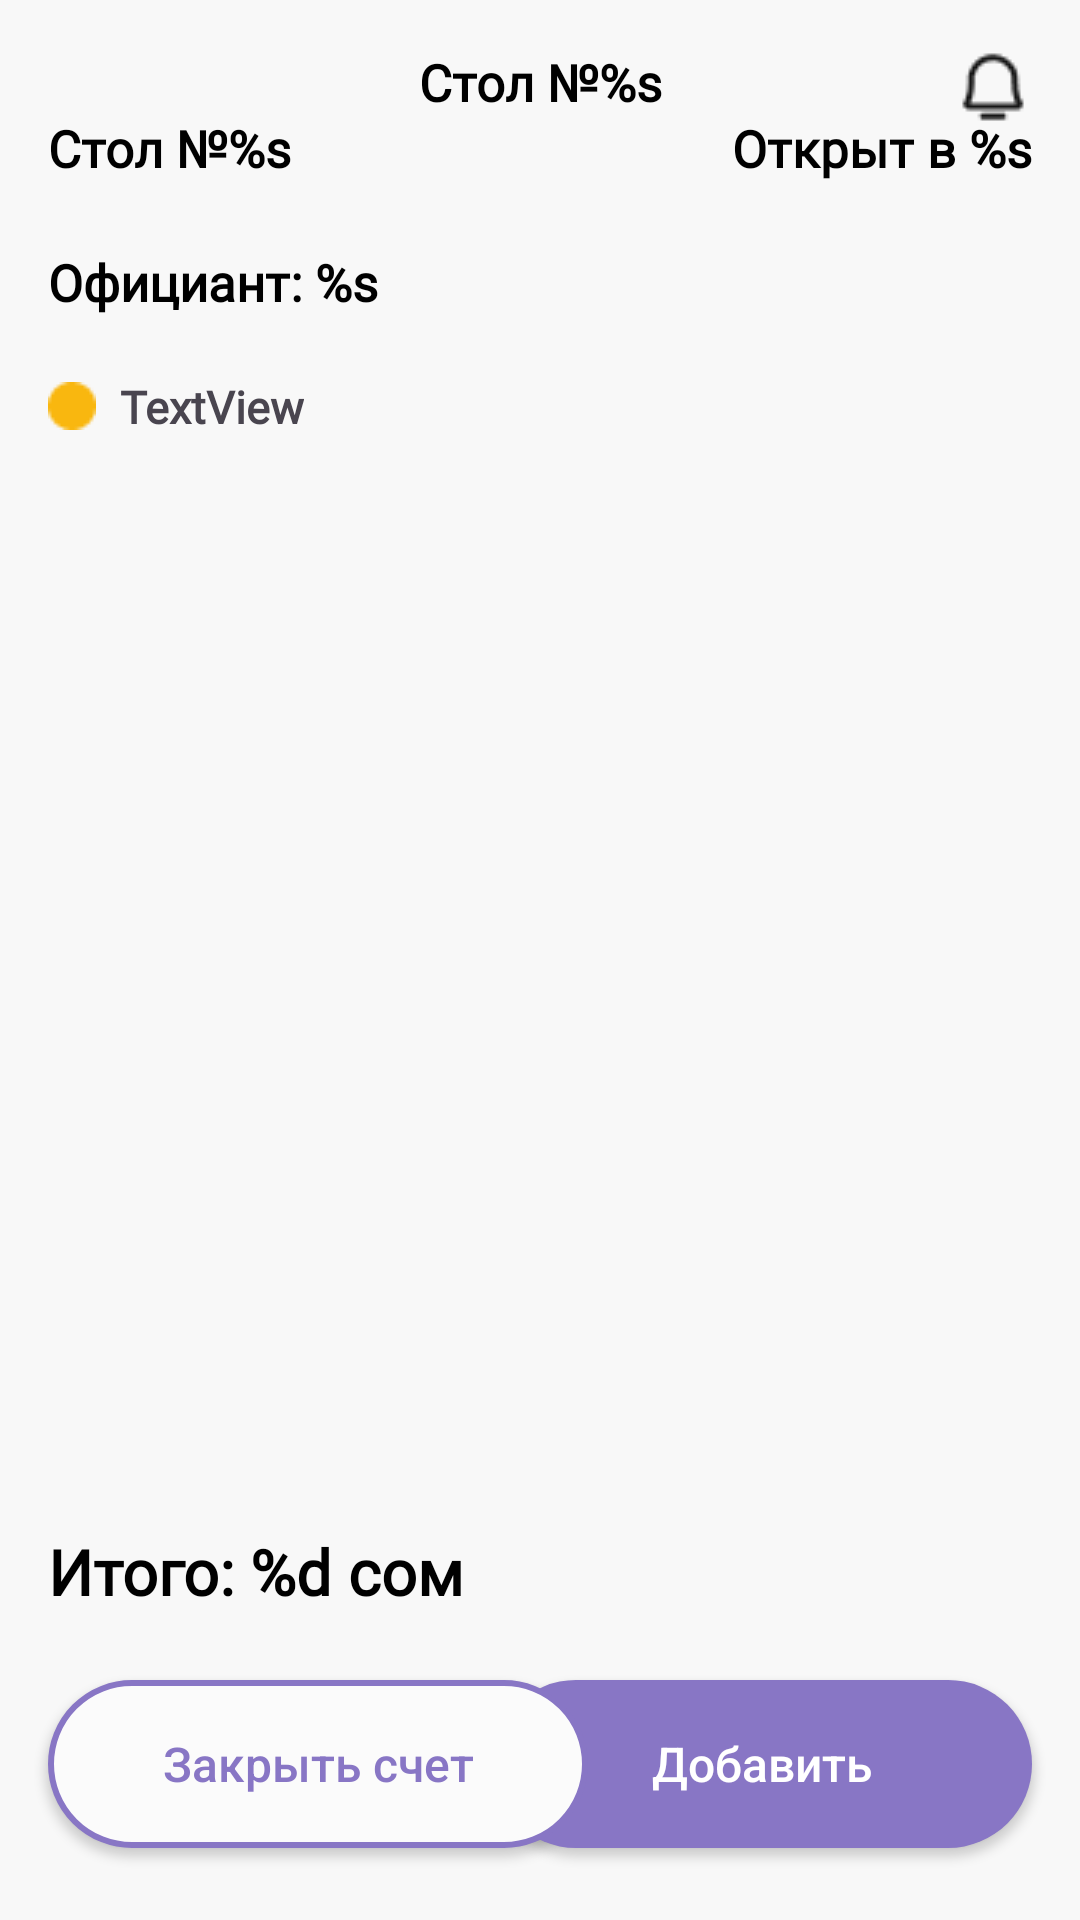

Icon bounding boxes for this 1080*1920 phone screenshot, format {"x1": x1, "y1": y1, "x2": x2, "y2": y2}:
bell: {"x1": 962, "y1": 53, "x2": 1024, "y2": 121}
